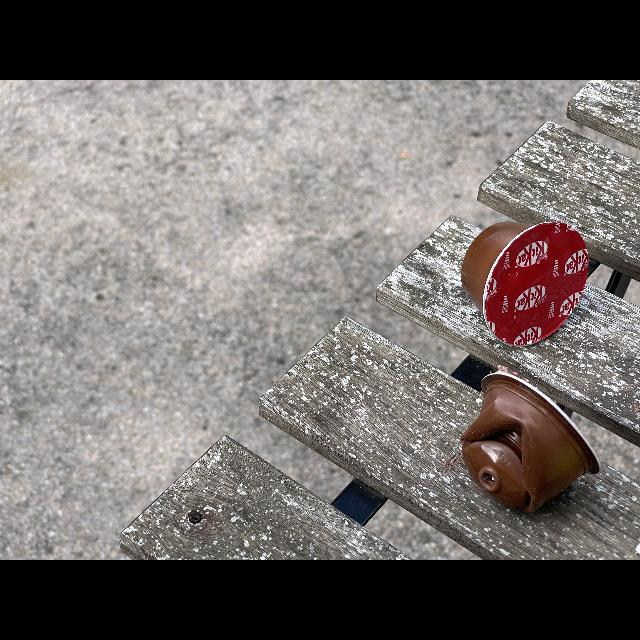damaged_capsule: (452, 358, 608, 534)
intact_capsule: (452, 212, 606, 358)
